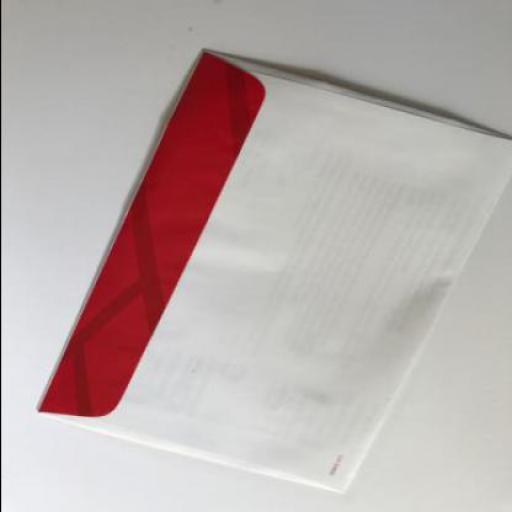paper: (36, 49, 510, 494)
